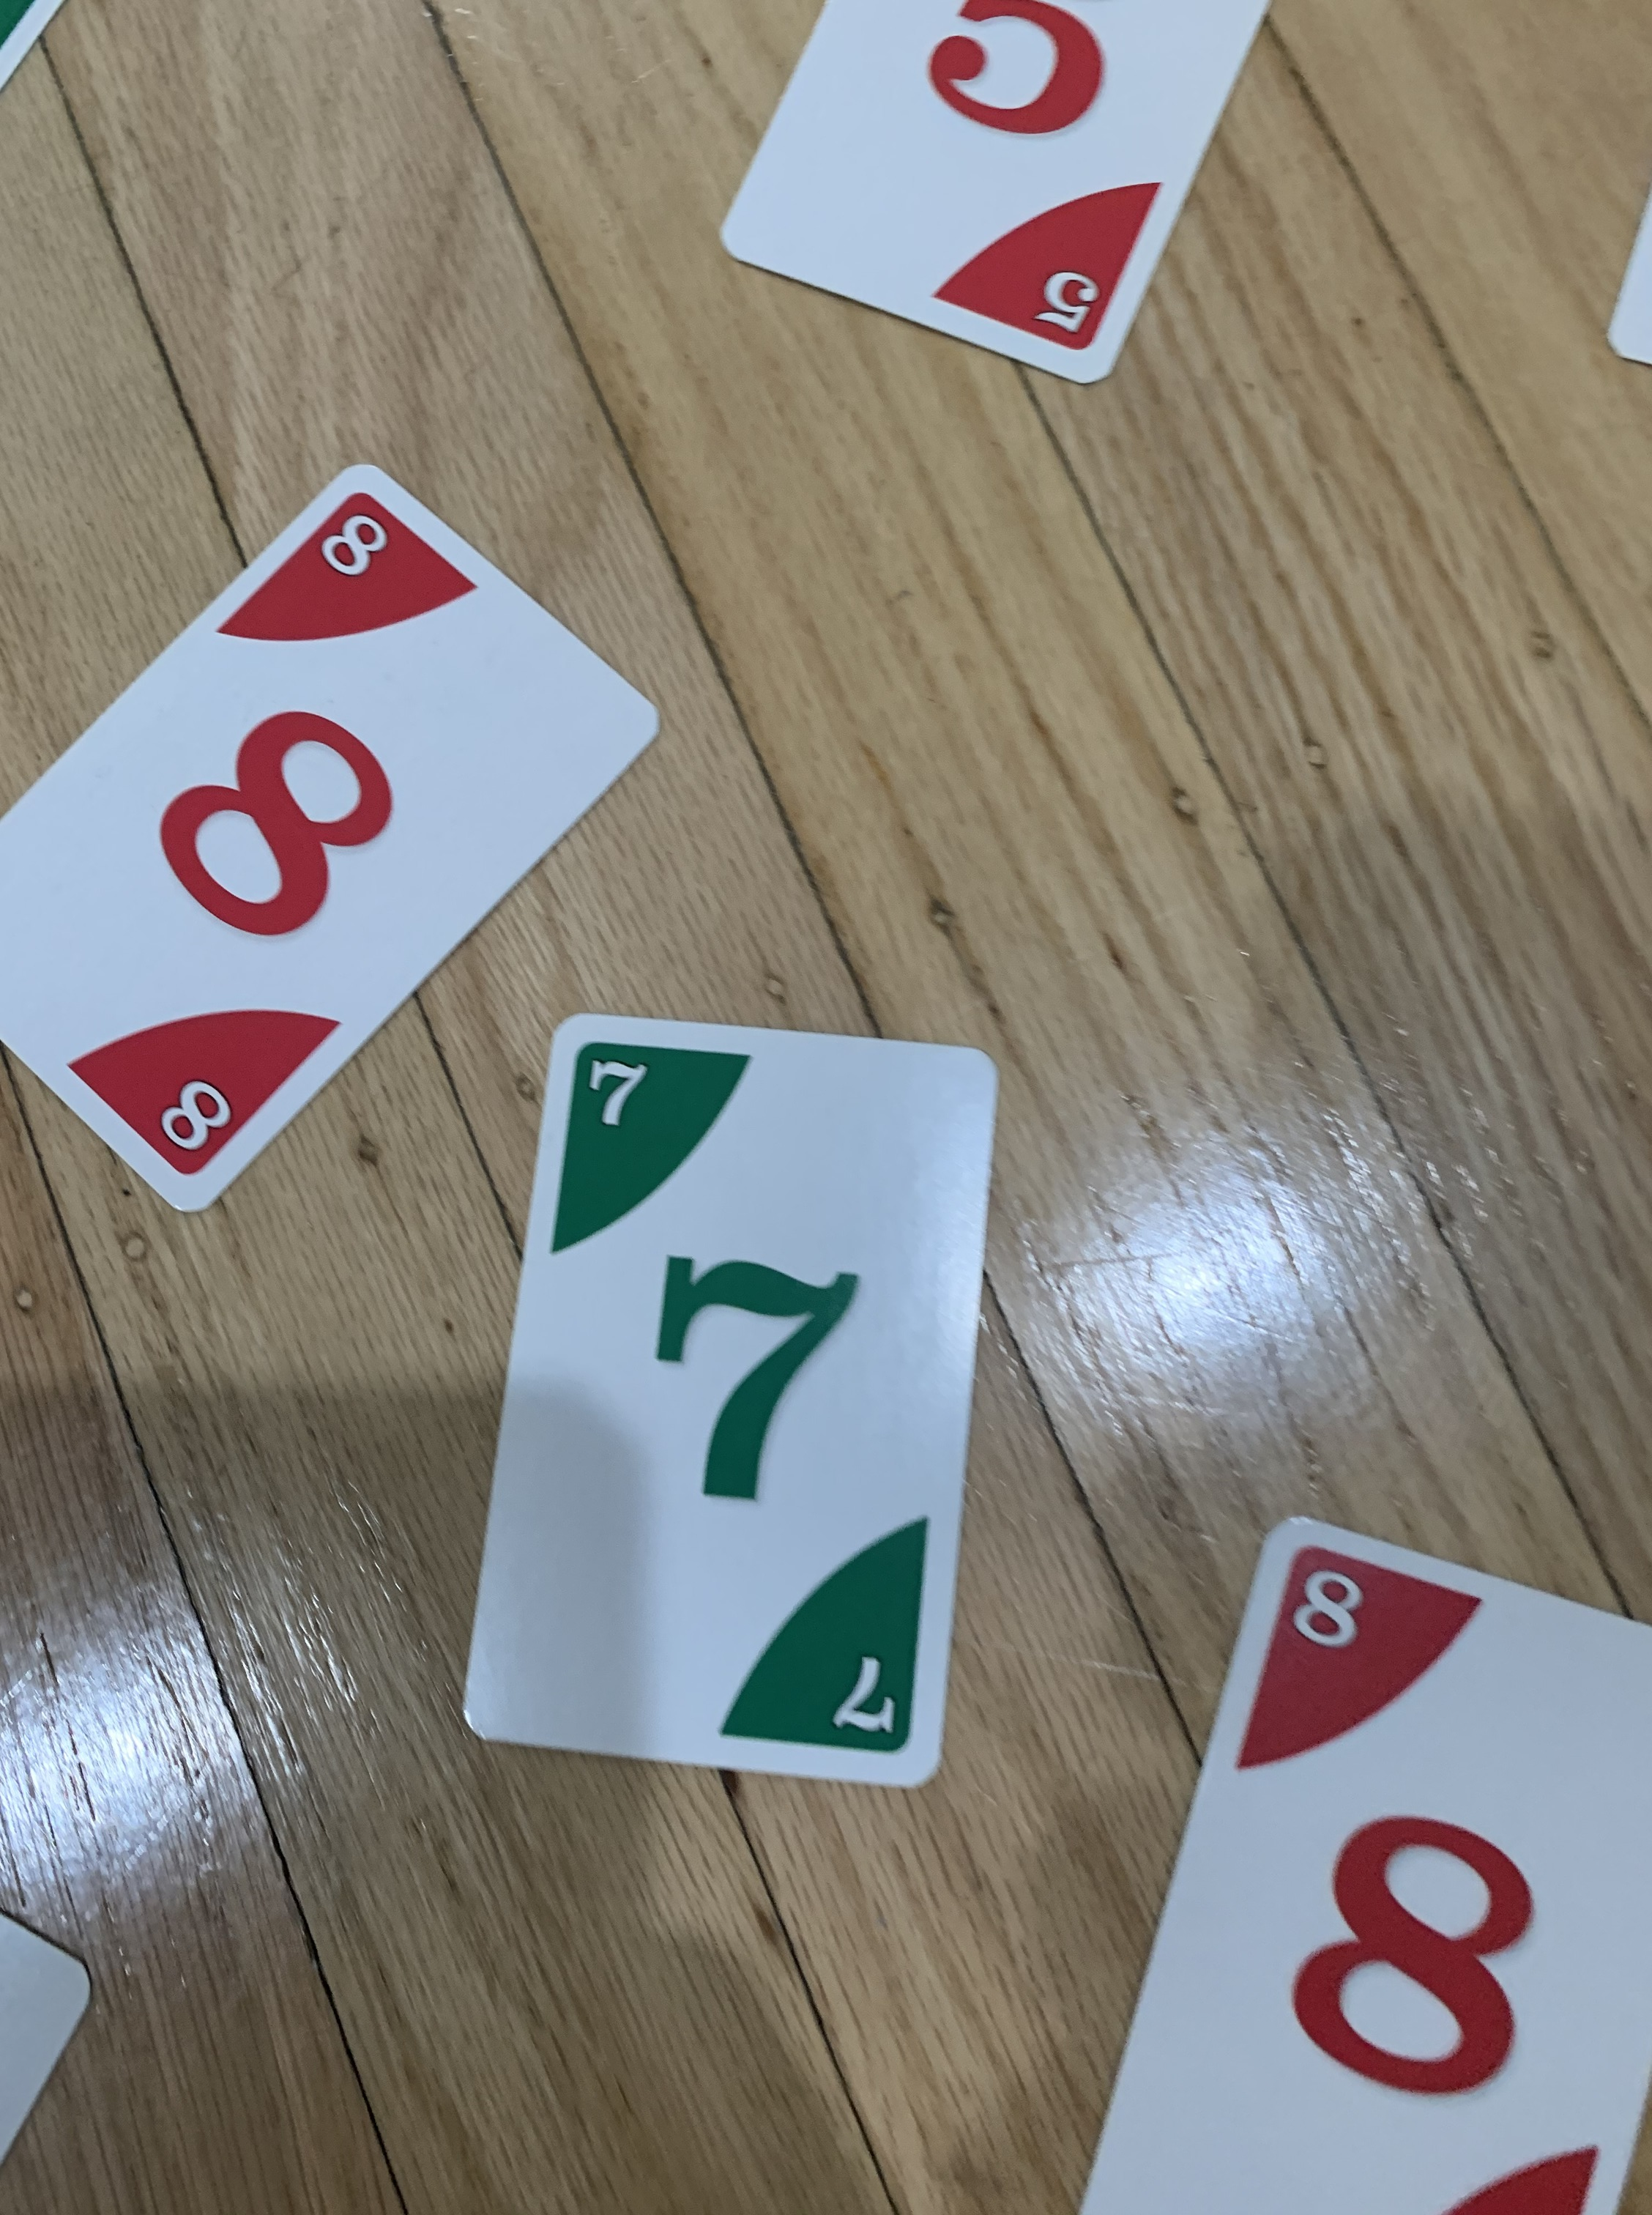eight: (7, 455, 672, 1226), (1065, 1508, 1652, 2215)
seven: (456, 1007, 1008, 1795)
